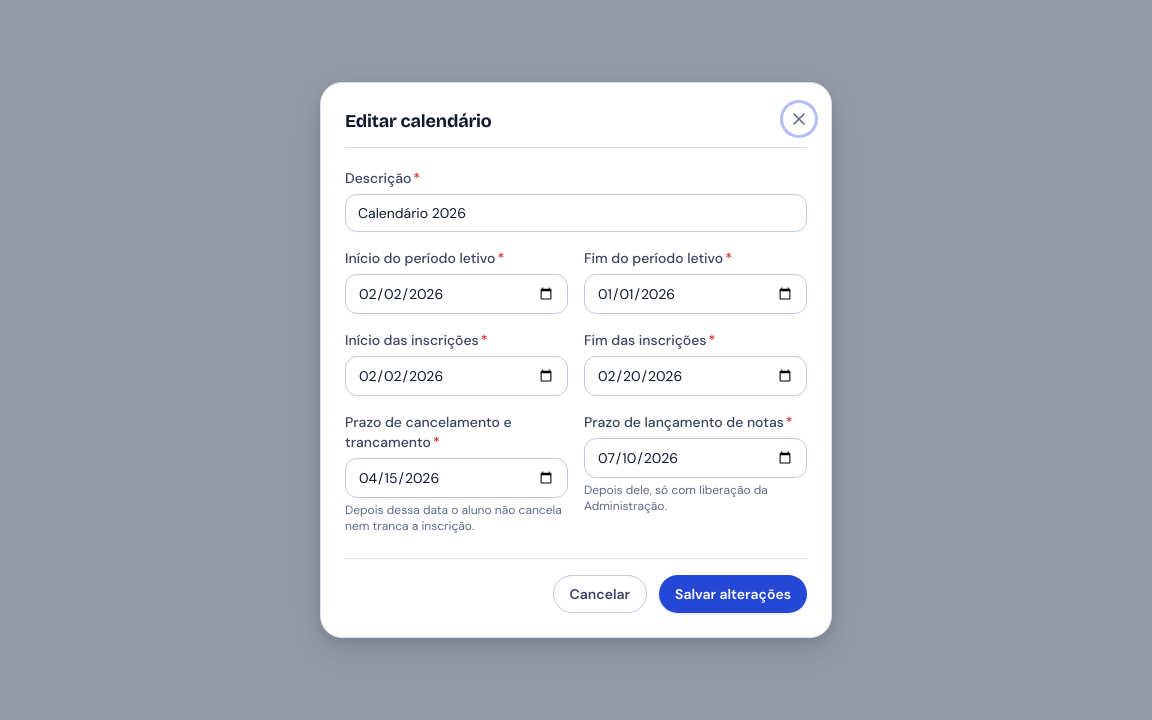
Test: CalendarFormModal › does not send an inconsistent calendar and says which field is wrong
The width and height of the screenshot is (1152, 720).
Click the button "Salvar alterações": click(733, 594) [659,575,807,613]
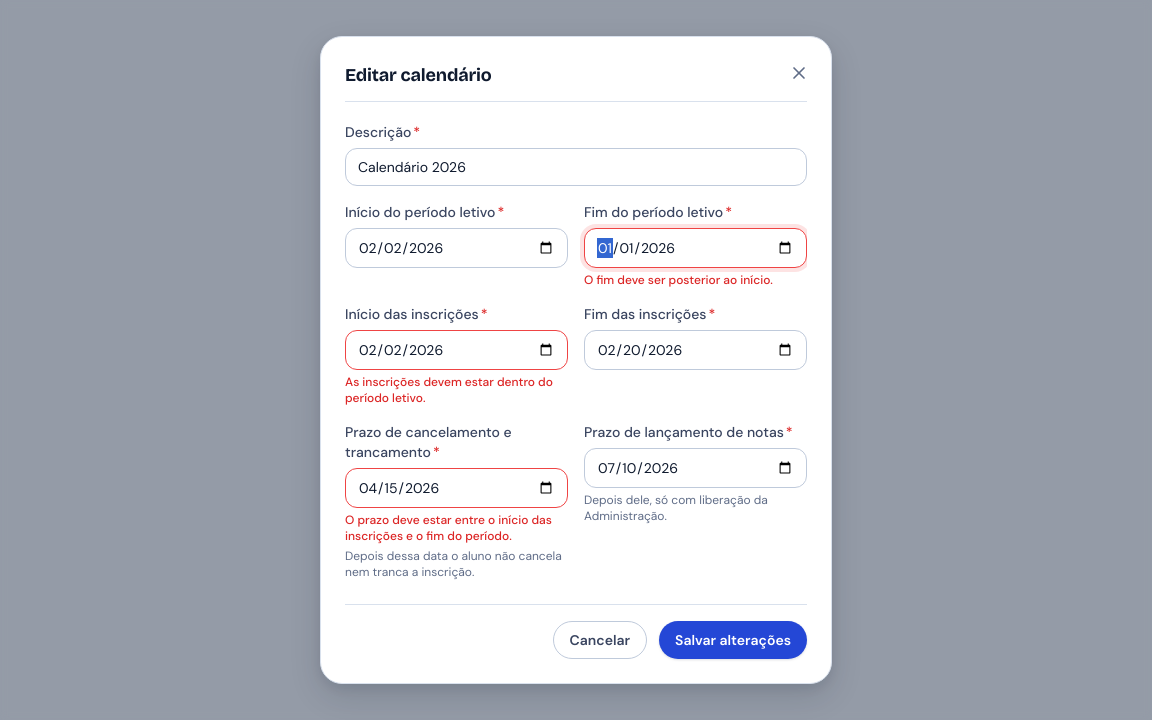
Expected: the text "O fim deve ser posterior ao início." is shown, [584,272,773,288]
